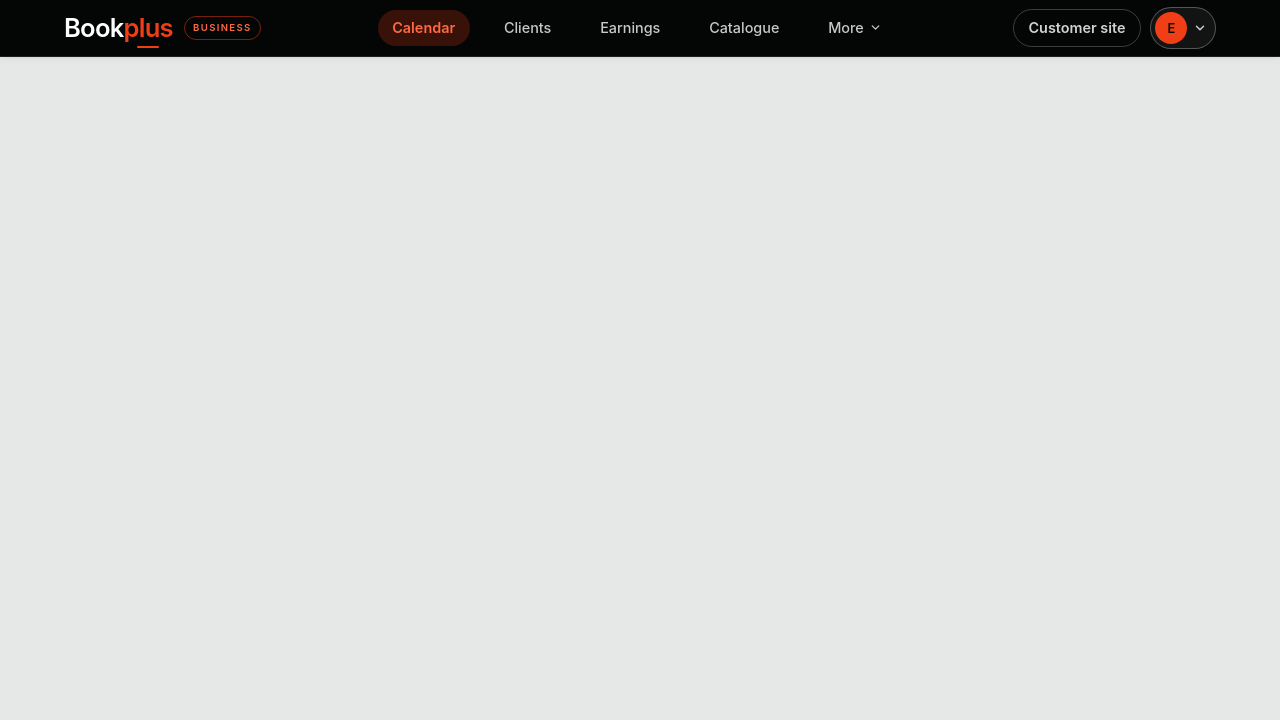
Test: Navbar — one app for the owner and the team › the avatar menu has the Settings group for a member too — their own Availability, never the Wallet or Forms
Click the button named "Account menu" at x=1183, y=28, box [1150, 7, 1216, 49]
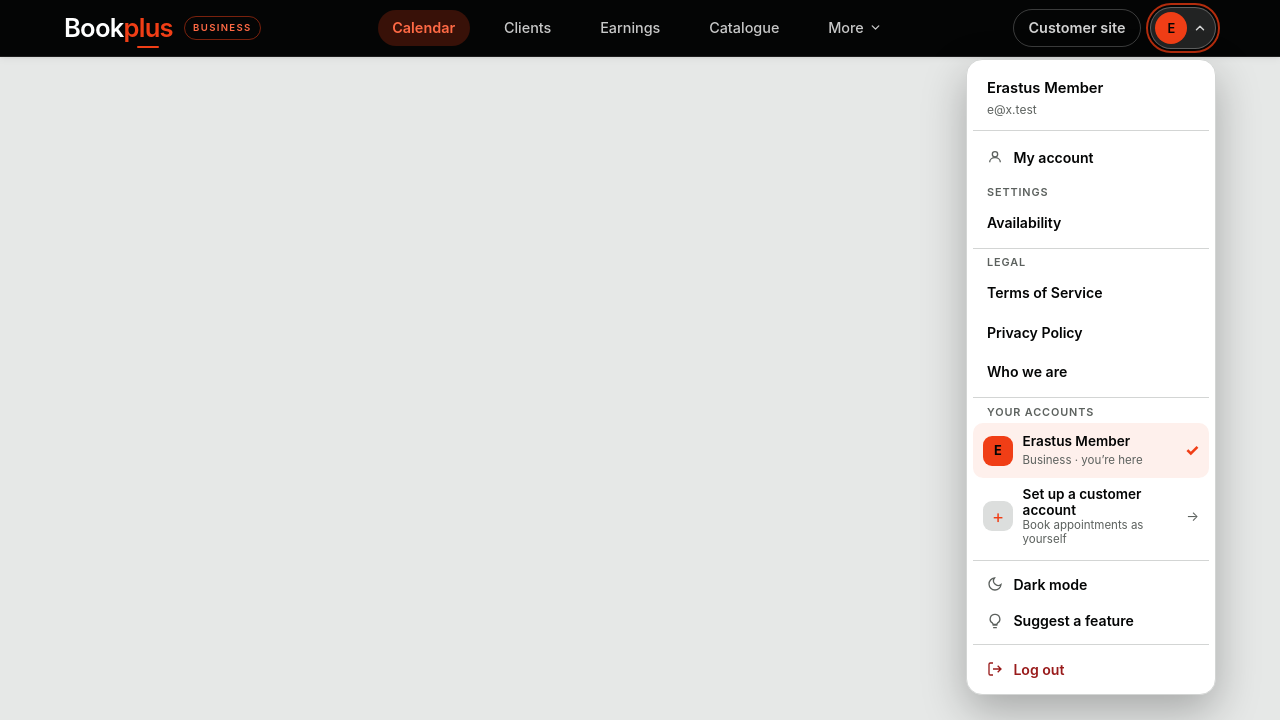
Check: the link "My account" is shown, box [987, 149, 1094, 166]
Check: the link "Availability" is shown, box [987, 214, 1061, 231]
